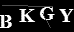B: (1, 13, 12, 29)
G: (39, 6, 55, 21)
K: (18, 8, 36, 23)
Y: (58, 8, 74, 23)
